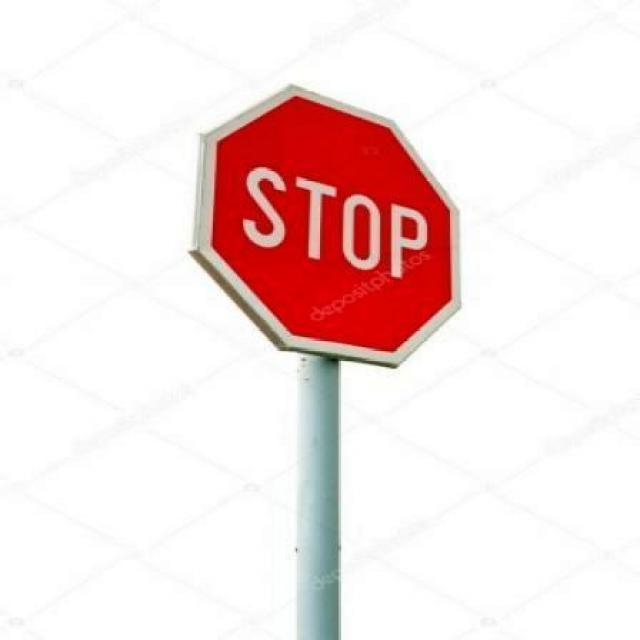stop_sign: (180, 78, 470, 372)
